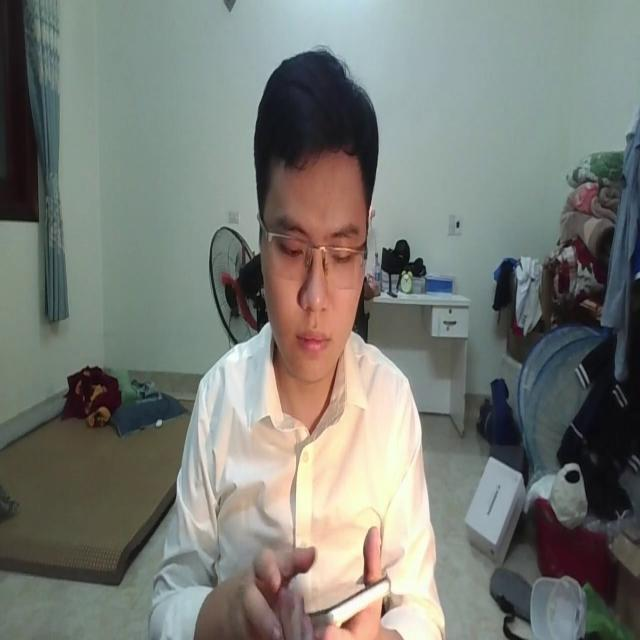phone: (294, 558, 390, 624)
student: (143, 46, 441, 640)
